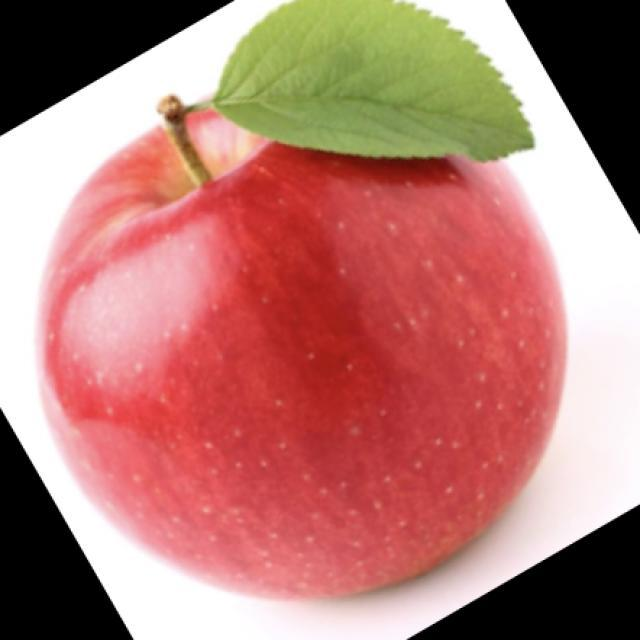Fresh Apple: (34, 74, 574, 602)
